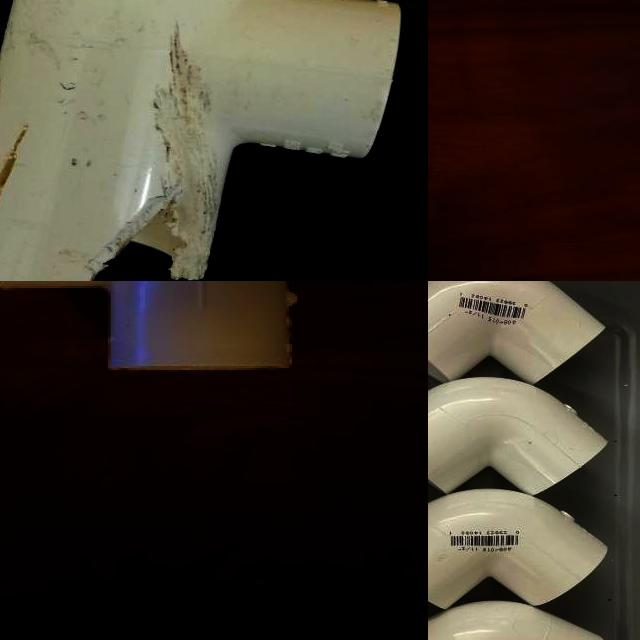Defective: (152, 45, 207, 281), (105, 220, 178, 278), (0, 128, 27, 211)
L Joint: (428, 489, 608, 608), (428, 379, 607, 496), (428, 281, 604, 385), (428, 603, 605, 640)
